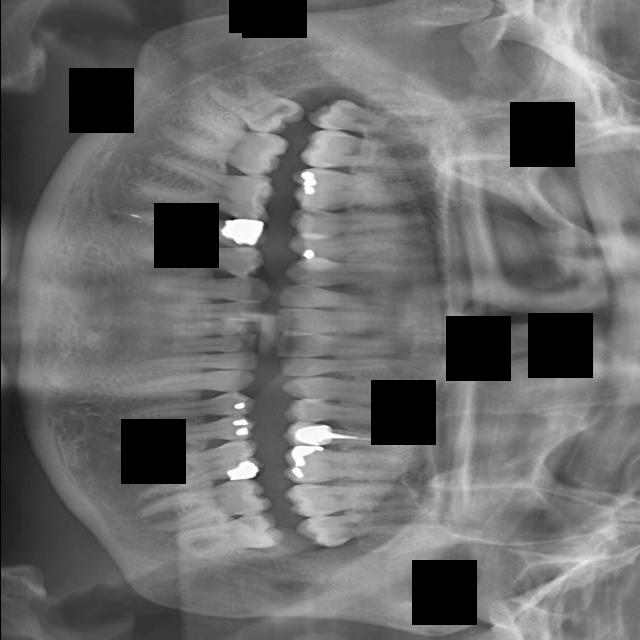3M ESPE Implant: (304, 95, 443, 142)
AGS Medikal Implant: (132, 472, 273, 539)
AMerOss Implant: (115, 434, 264, 503)
Amalgam filling: (299, 128, 439, 175)
Anthogyr Implant: (121, 415, 257, 448)
Bicon Implant: (115, 391, 255, 422)
BioHorizons Implant: (110, 369, 256, 396)
BioLife Implant: (138, 351, 258, 370)
Biomet 3i Implant: (158, 336, 257, 354)
Blue Sky Bio Implant: (142, 318, 259, 341)
Camlog Implant: (138, 297, 262, 322)
Caries: (278, 357, 421, 377)
Composite filling: (133, 276, 270, 302)
Cowellmedi Implant: (128, 241, 266, 279)
Crown: (113, 199, 267, 253)
DENTSPLY Implant: (290, 167, 424, 212)
Dentatus Implant: (133, 151, 278, 225)
Dentis Implant: (149, 102, 293, 182)
Dentium Implant: (203, 58, 308, 150)
Euroteknika Implant: (286, 205, 430, 235)
Filling: (289, 231, 425, 259)
Frontier Implant: (283, 260, 437, 286)
Hiossen Implant: (278, 373, 444, 411)
Implant: (275, 308, 423, 340)
Implant Direct: (277, 285, 423, 317)
Keystone Dental Implant: (275, 334, 428, 357)
MIS Implant: (283, 401, 421, 424)
Mandible: (283, 423, 411, 447)
Maxilla: (282, 445, 406, 485)
Megagen Implant: (360, 493, 414, 503)
Neodent Implant: (294, 504, 444, 551)
Neoss Implant: (173, 509, 285, 566)
